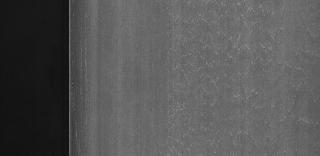silk spot: (163, 6, 315, 154)
